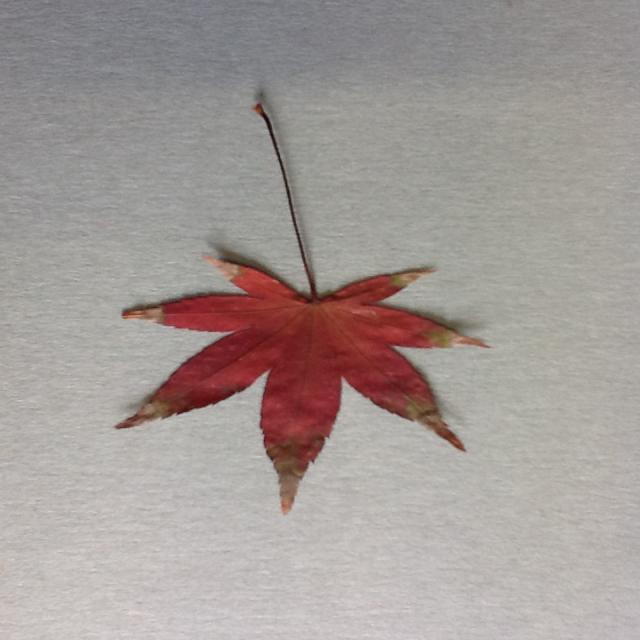foliage: (115, 100, 489, 516)
